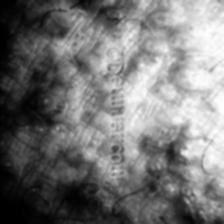Unclassified: (155, 50, 215, 103), (7, 88, 66, 135), (156, 133, 200, 177)
